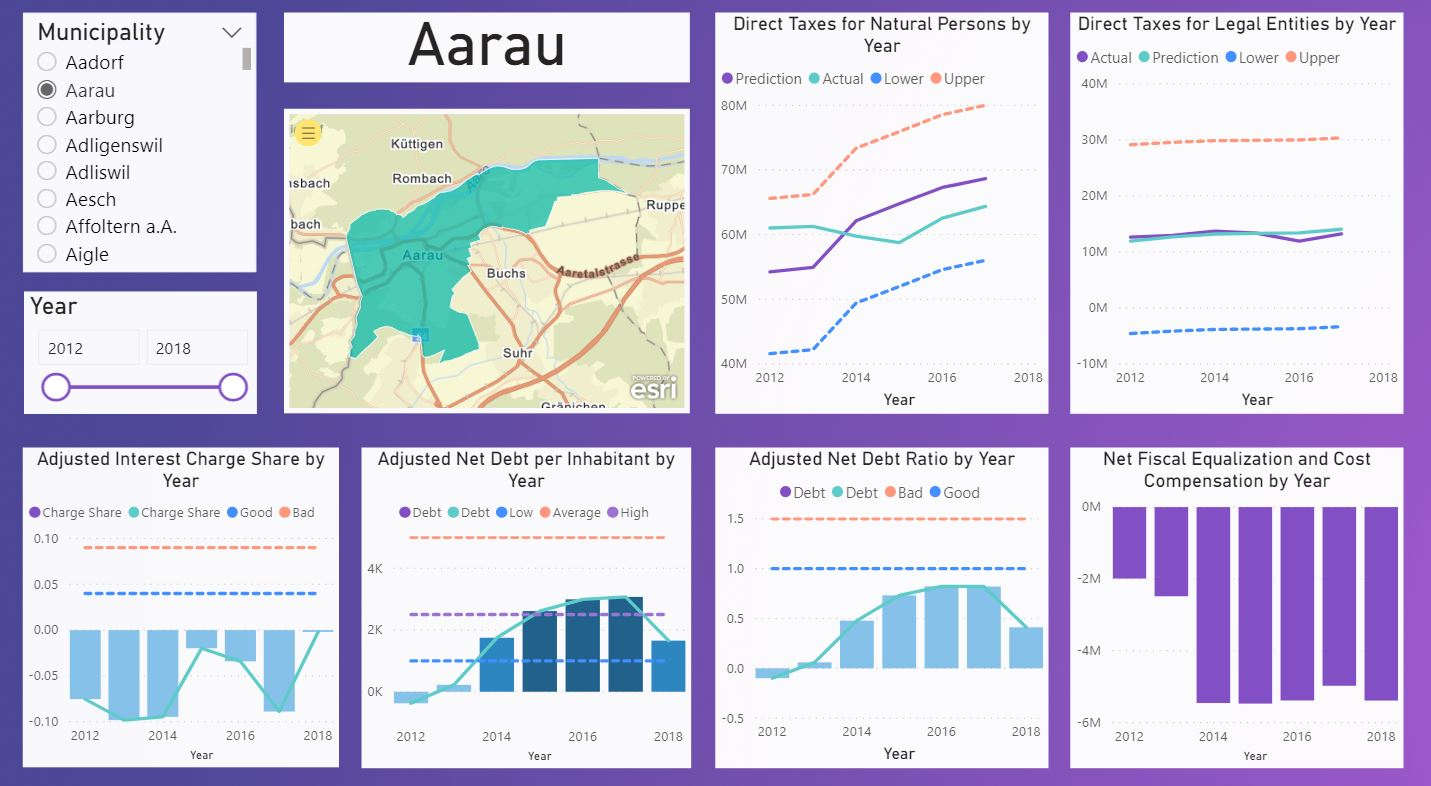

What the dashboard file says about the page in this screenshot:
{"tool":"powerbi","page":{"name":"Single Municipality","canvas":[1280,720],"ordinal":1},"visuals":[{"type":"lineClusteredColumnComboChart","title":"Adjusted Interest Charge Share by Year","fields":{"Category":["Sheet1.Year"],"Y":["Sum(Sheet1.Adjusted Interest Charge Share)"],"Y2":["Sum(Sheet1.Adjusted Interest Charge Share)","Sum(KPI.Good Interest)","Sum(KPI.Bad Interest)"]},"box":[21.2,413,282.4,285.8],"z":0},{"type":"lineClusteredColumnComboChart","title":"Adjusted Net Debt per Inhabitant by Year","fields":{"Category":["Sheet1.Year"],"Y":["Sum(Sheet1.Adjusted Net Debt per Inhabitant)"],"Y2":["Sum(Sheet1.Adjusted Net Debt per Inhabitant)","Sum(KPI.Good Inhabitant)","Sum(KPI.Bad Inhabitant)","Sum(KPI.Medium Inhabitant)"]},"box":[323.5,413.1,294.4,286.3],"z":1000},{"type":"lineClusteredColumnComboChart","title":"Adjusted Net Debt Ratio by Year","fields":{"Category":["Sheet1.Year"],"Y":["Sum(Sheet1.Adjusted Net Debt Ratio)"],"Y2":["Sum(Sheet1.Adjusted Net Debt Ratio)","Sum(KPI.Bad Net Debt Ratio)","Sum(KPI.Good Net Debt Ratio)"]},"box":[640,413.1,297.9,286.3],"z":2000},{"type":"card","title":"Map View","fields":{"Values":["Min(Sheet1.Municipality)"]},"box":[254.5,24.6,362.8,62.5],"z":3000},{"type":"slicer","title":"Year","fields":{"Values":["Sheet1.Year"]},"box":[22.3,273.5,207.6,109.4],"z":4000},{"type":"slicer","fields":{"Values":["KPI.Municipality"]},"box":[21.2,24.6,208.7,232.2],"z":5000},{"type":"esriVisual","title":"Map View","fields":{"Location":["Sheet1.Municipality"]},"box":[254.5,110.5,362.8,272.4],"z":6000},{"type":"lineChart","title":"Direct Taxes for Natural Persons by Year","fields":{"Category":["KPI.Year"],"Y":["Sum(KPI.Direct taxes, natural persons prediction)","Sum(KPI.Direct taxes, natural persons)","Sum(KPI.Lower bound natural persons prediction)","Sum(KPI.Upper bound natural persons prediction)"]},"box":[640,24.4,297.9,358.4],"z":7000},{"type":"lineChart","title":"Direct Taxes for Legal Entities by Year","fields":{"Category":["KPI.Year"],"Y":["Sum(KPI.Direct taxes, legal entities)","Sum(KPI.Direct taxes, legal entities prediction)","Sum(KPI.Lower bound legal entities prediction)","Sum(KPI.Upper bound legal entities prediction)"]},"box":[956.5,24.4,297.9,358.4],"z":8000},{"type":"clusteredColumnChart","title":"Net Fiscal Equalization and Cost Compensation by Year","fields":{"Category":["KPI.Year"],"Y":["Sum(KPI.Net fiscal equalization and cost compensation)"]},"box":[956.5,413.1,297.9,286.3],"z":9000}]}

Visuals, with their boxes in screenshot pixels (x1, y1, x2, y2), scaled from the page's 1280x720 canvas onto the 1431x786 screenshot:
"Adjusted Interest Charge Share by Year" lineClusteredColumnComboChart: select_region(24, 451, 339, 763)
"Adjusted Net Debt per Inhabitant by Year" lineClusteredColumnComboChart: select_region(362, 451, 691, 764)
"Adjusted Net Debt Ratio by Year" lineClusteredColumnComboChart: select_region(716, 451, 1049, 764)
"Map View" card: select_region(285, 27, 690, 95)
"Year" slicer: select_region(25, 299, 257, 418)
slicer - KPI.Municipality: select_region(24, 27, 257, 280)
"Map View" esriVisual: select_region(285, 121, 690, 418)
"Direct Taxes for Natural Persons by Year" lineChart: select_region(716, 27, 1049, 418)
"Direct Taxes for Legal Entities by Year" lineChart: select_region(1069, 27, 1402, 418)
"Net Fiscal Equalization and Cost Compensation by Year" clusteredColumnChart: select_region(1069, 451, 1402, 764)
